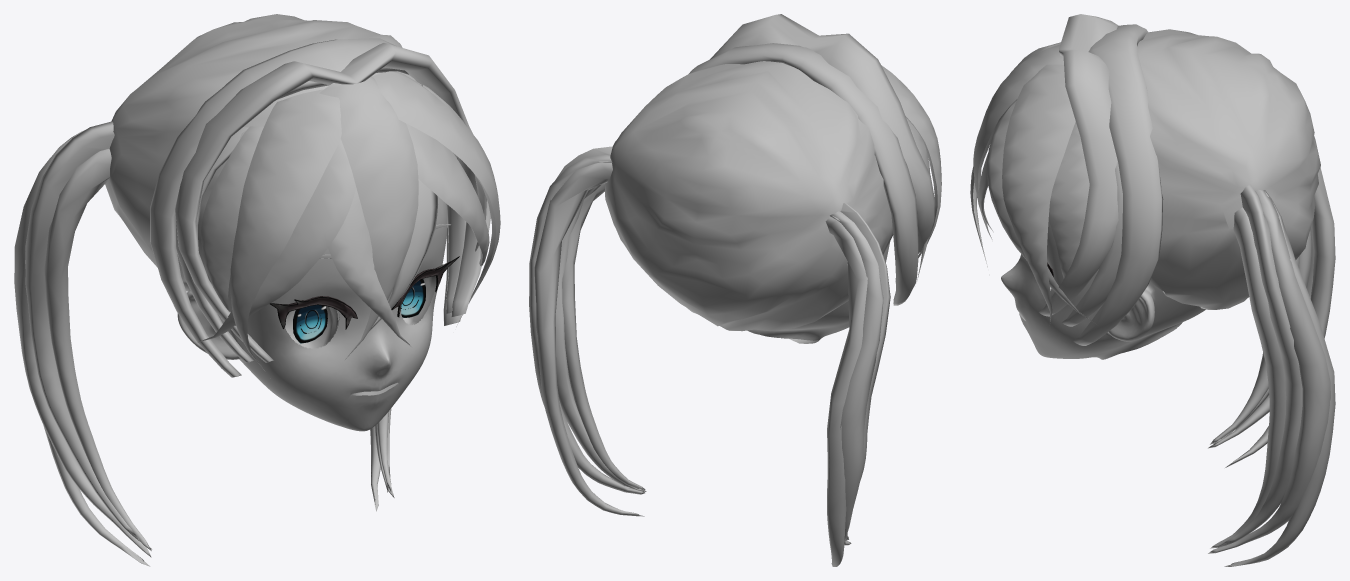
File: female_hair_pigtails_2 2.glb
The picture shows the model from 3 angles, left to right: view 1: azimuth 30°, elevation 25°; view 2: azimuth 150°, elevation 25°; view 3: azimuth 270°, elevation 25°; orthographic projection. The views are drawn at different scales.
Parts seen in each view (by area): view 1: hair_3, hair_7, face_1, hair, hair_1, hair_6, hair_9, hair_0, hair_8, hair_5, hair_2, hair_4 (+3 smaller); view 2: hair, hair_3, hair_0, hair_1, hair_7, face_1; view 3: hair, hair_3, hair_0, hair_7, hair_1, face_1, hair_8, hair_6, hair_2, hair_9.
Boxes of the visible parts, x1=… form: hair_3: x1=14, y1=121, x2=394, y2=566; hair_7: x1=230, y1=71, x2=500, y2=371; face_1: x1=177, y1=196, x2=447, y2=431; hair: x1=105, y1=14, x2=457, y2=291; hair_1: x1=175, y1=43, x2=490, y2=362; hair_6: x1=319, y1=76, x2=418, y2=359; hair_9: x1=198, y1=123, x2=489, y2=342; hair_0: x1=150, y1=38, x2=461, y2=377; hair_8: x1=200, y1=84, x2=486, y2=311; hair_5: x1=328, y1=188, x2=411, y2=346; hair_2: x1=176, y1=82, x2=465, y2=362; hair_4: x1=370, y1=179, x2=437, y2=330; hair: x1=605, y1=61, x2=893, y2=331; hair_3: x1=529, y1=146, x2=890, y2=566; hair_0: x1=689, y1=43, x2=918, y2=305; hair_1: x1=710, y1=14, x2=934, y2=253; hair_7: x1=881, y1=65, x2=941, y2=257; face_1: x1=747, y1=241, x2=890, y2=343; hair: x1=1137, y1=29, x2=1320, y2=309; hair_3: x1=1208, y1=167, x2=1335, y2=566; hair_0: x1=1073, y1=24, x2=1163, y2=345; hair_7: x1=1002, y1=42, x2=1075, y2=324; hair_1: x1=1039, y1=14, x2=1118, y2=316; face_1: x1=1001, y1=221, x2=1205, y2=359; hair_8: x1=1048, y1=121, x2=1089, y2=278; hair_6: x1=973, y1=44, x2=1063, y2=239; hair_2: x1=1062, y1=161, x2=1122, y2=326; hair_9: x1=987, y1=100, x2=1096, y2=324.
Bounding box in the file's own units: 0.4304 × 0.5521 × 0.3757.
16 materials, 2 textured.
